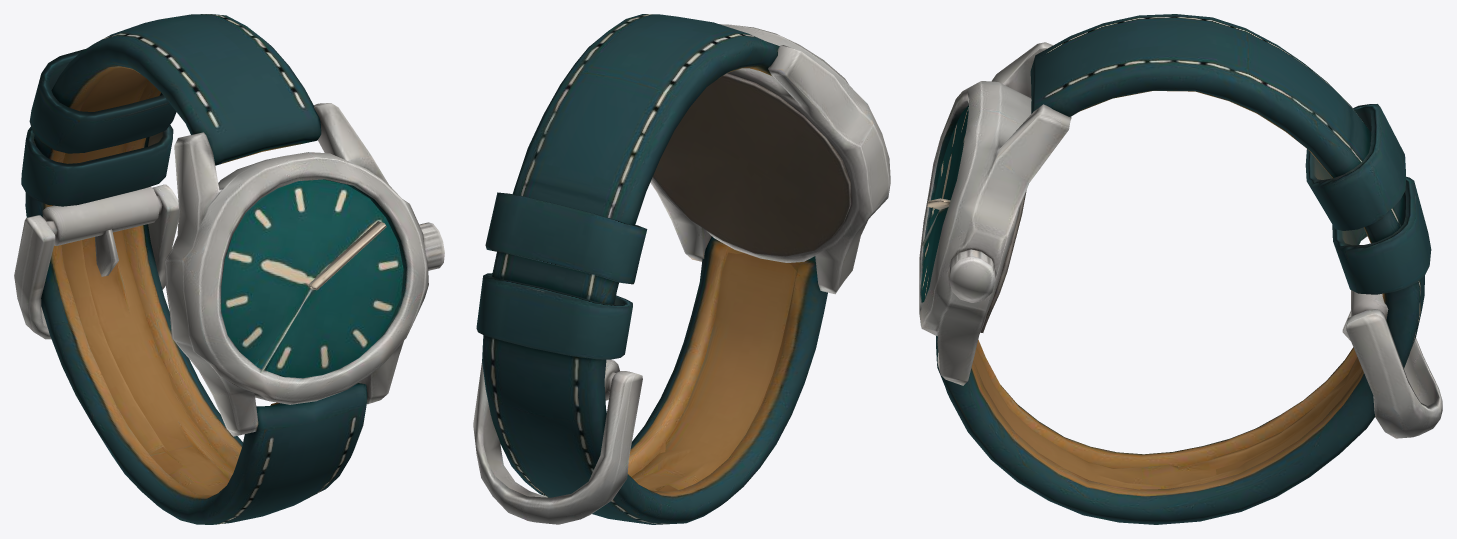
File: watch.glb
3 views of the same model, side by side, from view 1: azimuth 30°, elevation 25°; view 2: azimuth 150°, elevation 25°; view 3: azimuth 270°, elevation 25° (orthographic). The views are drawn at different scales.
Parts seen in each view (by area): view 1: watch; view 2: watch; view 3: watch.
Part boxes in pixels (x1=…): watch: x1=14, y1=14, x2=444, y2=524; watch: x1=473, y1=14, x2=890, y2=524; watch: x1=919, y1=14, x2=1442, y2=524.
Bounding box in the file's own units: 0.0574 × 0.0999 × 0.1.
1 material, 1 textured.
